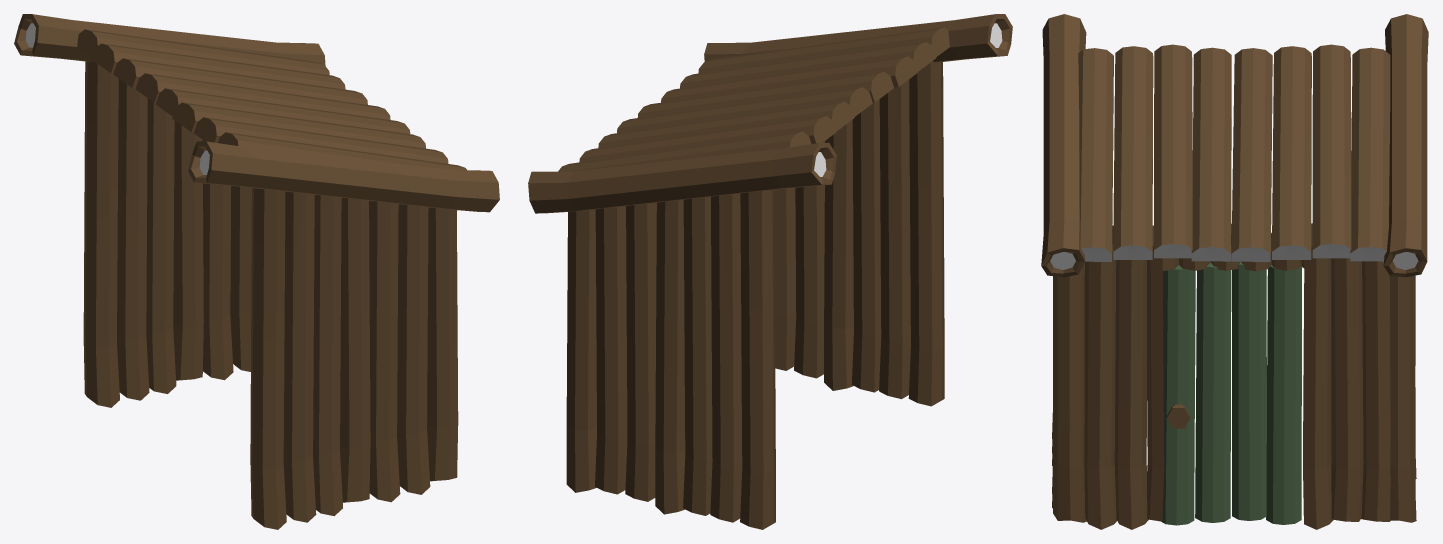
File: SM_LogCabin_Shed.fbx
3 views of the same model, side by side, from view 1: azimuth 30°, elevation 25°; view 2: azimuth 150°, elevation 25°; view 3: azimuth 270°, elevation 25° (orthographic). The views are drawn at different scales.
Parts seen in each view (by area): view 1: SM_LogCabin_Shed; view 2: SM_LogCabin_Shed; view 3: SM_LogCabin_Shed.
Part boxes in pixels (<box>): SM_LogCabin_Shed: <box>14,14,499,529</box>; SM_LogCabin_Shed: <box>528,14,1012,529</box>; SM_LogCabin_Shed: <box>1041,14,1428,529</box>.
Size of the model in its own units: 197 by 253 by 226.
